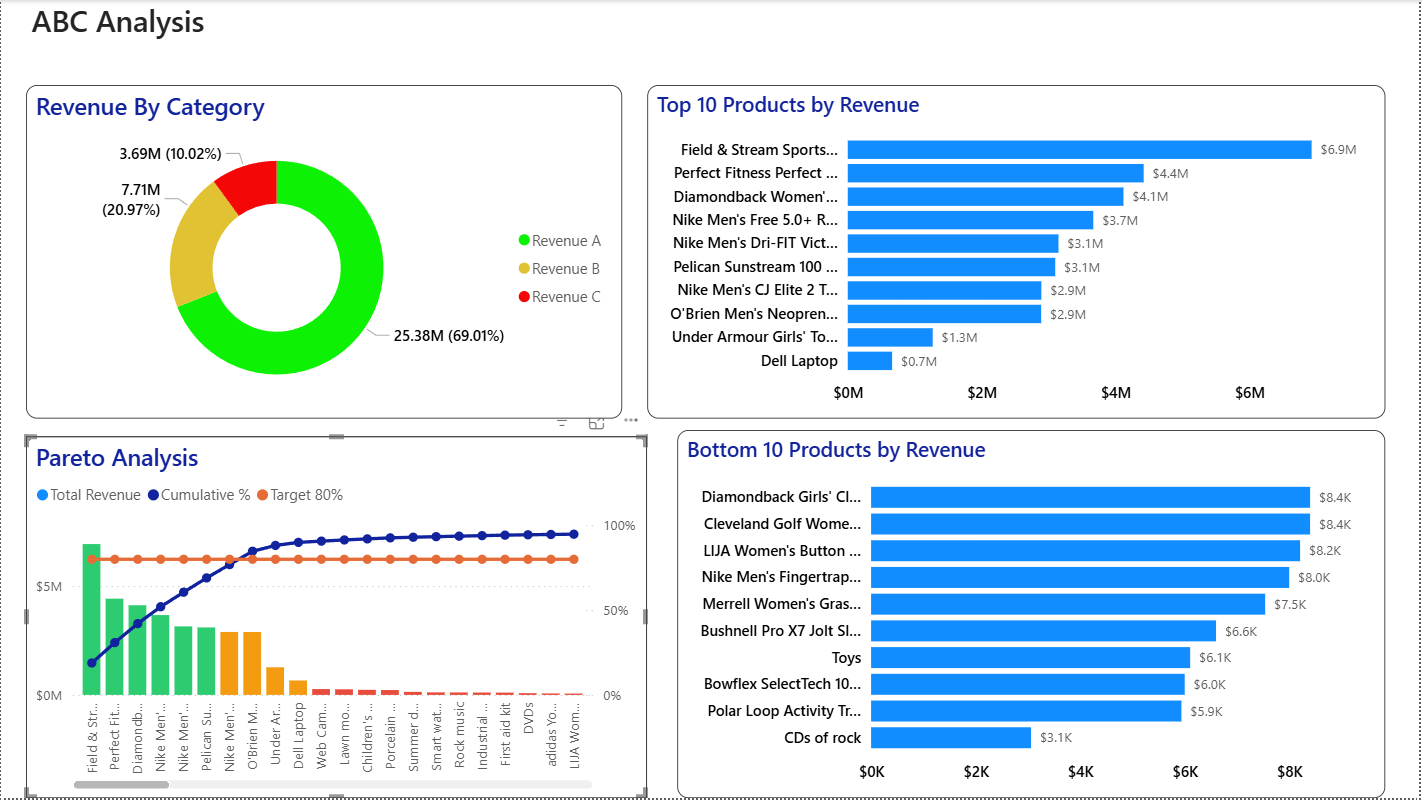

This screenshot's page, from the dashboard's own definition file:
{"tool":"powerbi","page":{"name":"ABC Analysis","canvas":[1280,720],"ordinal":2},"visuals":[{"type":"clusteredBarChart","title":"Top 10  Products by Revenue","fields":{"Category":["public orders.product"],"Y":["public orders.Total Revenue"]},"box":[582.2,77.1,665.5,301],"z":0},{"type":"textbox","title":"ABC Analysis","box":[22.4,0,1225.3,43.5],"z":1000},{"type":"barChart","title":"Bottom 10  Products by Revenue","fields":{"Category":["public orders.product"],"Y":["public orders.Total Revenue"]},"box":[609.5,388.1,638.2,332.1],"z":2000},{"type":"lineClusteredColumnComboChart","fields":{"Category":["public orders.product"],"Y2":["public orders.Cumulative %","public orders.Target 80%"],"Y":["public orders.Total Revenue"]},"box":[22.4,393.1,559.8,327.2],"z":3000},{"type":"donutChart","title":"Revenue By Category","fields":{"Y":["public orders.Revenue A","public orders.Revenue B","public orders.Revenue C"]},"box":[22.4,77.1,537.4,301],"z":4000}]}

Visuals, with their boxes in screenshot pixels (x1, y1, x2, y2), scaled from the page's 1280x720 canvas onto the 1422x807 screenshot:
"Top 10  Products by Revenue" clusteredBarChart: 647:86:1386:424
"ABC Analysis" textbox: 25:0:1386:49
"Bottom 10  Products by Revenue" barChart: 677:435:1386:806
lineClusteredColumnComboChart - public orders.product x public orders.Cumulative %: 25:441:647:806
"Revenue By Category" donutChart: 25:86:622:424
